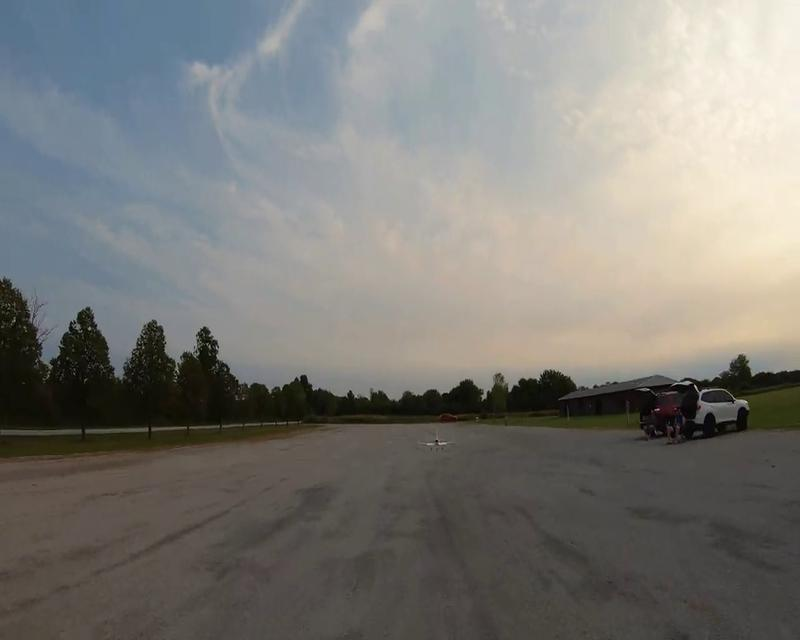UAV: (419, 429, 454, 455)
